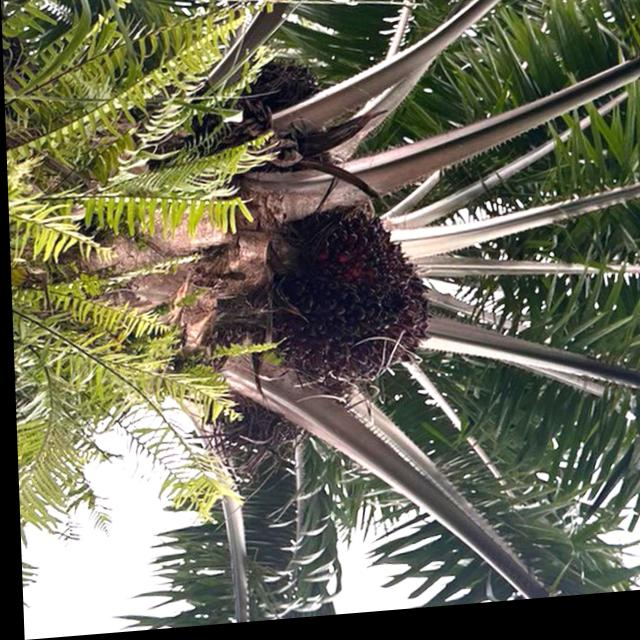ripe: (255, 191, 447, 419)
